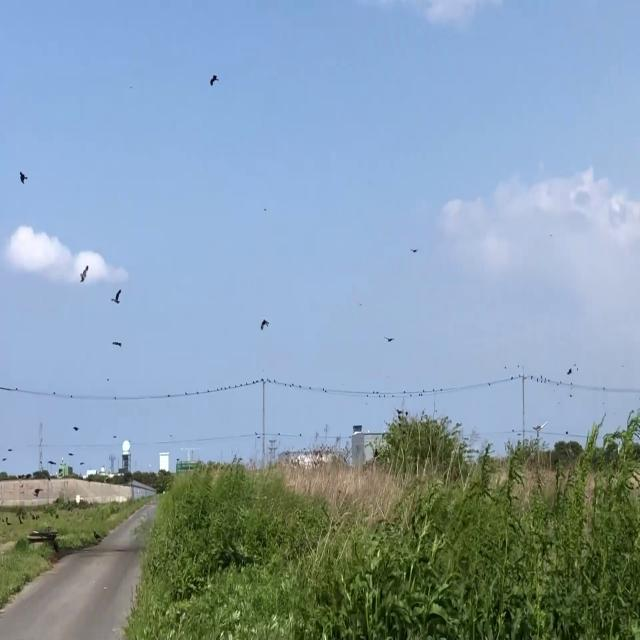bird: (19, 164, 27, 188), (81, 259, 88, 285), (260, 312, 268, 334), (210, 68, 217, 92), (386, 330, 395, 346), (567, 362, 573, 378)
